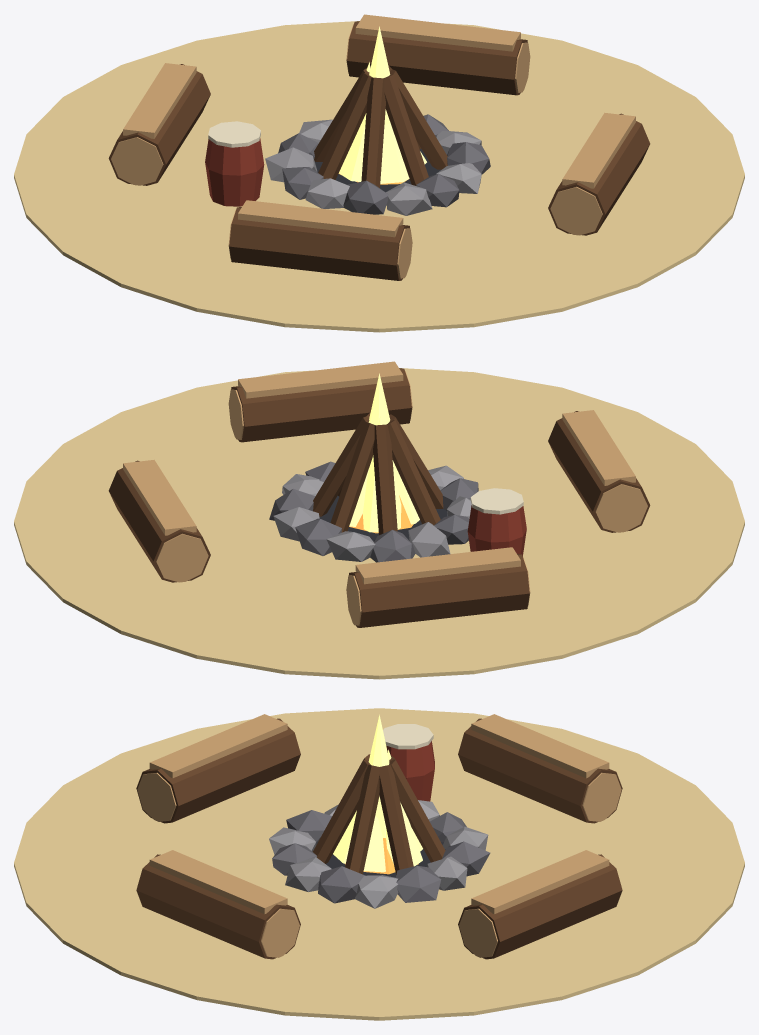
The model's file is Bonfire.fbx.
3 views of the same model, one above another, from view 1: azimuth 30°, elevation 25°; view 2: azimuth 150°, elevation 25°; view 3: azimuth 270°, elevation 25° (orthographic).
Visible parts, largest first — view 1: Bonfire_Sand, Bonfire_Bark, Bonfire_WoodLight, Bonfire_Stone, Bonfire_StoneDark, Bonfire_WoodRed, Bonfire_Fire, Bonfire_Cream; view 2: Bonfire_Sand, Bonfire_Bark, Bonfire_WoodLight, Bonfire_StoneDark, Bonfire_Stone, Bonfire_Fire, Bonfire_WoodRed, Bonfire_Cream, Bonfire_Charcoal; view 3: Bonfire_Sand, Bonfire_Bark, Bonfire_WoodLight, Bonfire_StoneDark, Bonfire_Stone, Bonfire_Fire, Bonfire_WoodRed, Bonfire_Cream.
Boxes of the visible parts, left/top/right/bottom form: Bonfire_Sand: left=14, top=21, right=744, bottom=332; Bonfire_Bark: left=108, top=21, right=650, bottom=280; Bonfire_WoodLight: left=111, top=14, right=635, bottom=278; Bonfire_Stone: left=265, top=119, right=481, bottom=215; Bonfire_StoneDark: left=278, top=114, right=490, bottom=214; Bonfire_WoodRed: left=205, top=138, right=264, bottom=206; Bonfire_Fire: left=339, top=26, right=426, bottom=183; Bonfire_Cream: left=208, top=121, right=260, bottom=147; Bonfire_Sand: left=14, top=368, right=744, bottom=679; Bonfire_Bark: left=108, top=368, right=650, bottom=627; Bonfire_WoodLight: left=123, top=361, right=647, bottom=625; Bonfire_StoneDark: left=269, top=461, right=478, bottom=562; Bonfire_Stone: left=273, top=465, right=471, bottom=561; Bonfire_Fire: left=349, top=373, right=419, bottom=532; Bonfire_WoodRed: left=467, top=505, right=526, bottom=556; Bonfire_Cream: left=470, top=488, right=523, bottom=514; Bonfire_Charcoal: left=319, top=495, right=447, bottom=541; Bonfire_Sand: left=14, top=708, right=744, bottom=1020; Bonfire_Bark: left=136, top=718, right=622, bottom=959; Bonfire_WoodLight: left=137, top=714, right=621, bottom=957; Bonfire_StoneDark: left=272, top=810, right=490, bottom=903; Bonfire_Stone: left=269, top=800, right=488, bottom=908; Bonfire_Fire: left=333, top=714, right=422, bottom=872; Bonfire_WoodRed: left=386, top=741, right=434, bottom=801; Bonfire_Cream: left=383, top=724, right=433, bottom=749.
Size of the model in its own units: 27 by 6.2 by 27.
